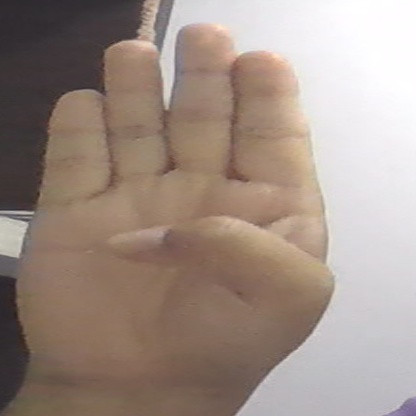B: (16, 22, 333, 397)
